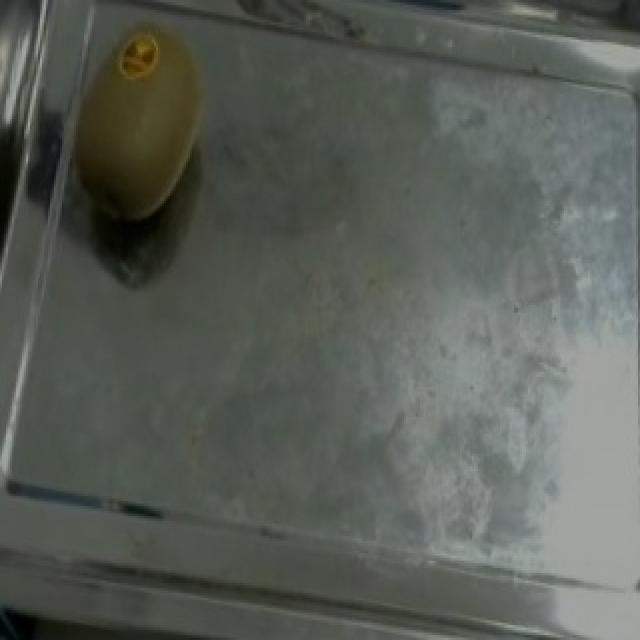Fruit: (40, 10, 232, 246)
